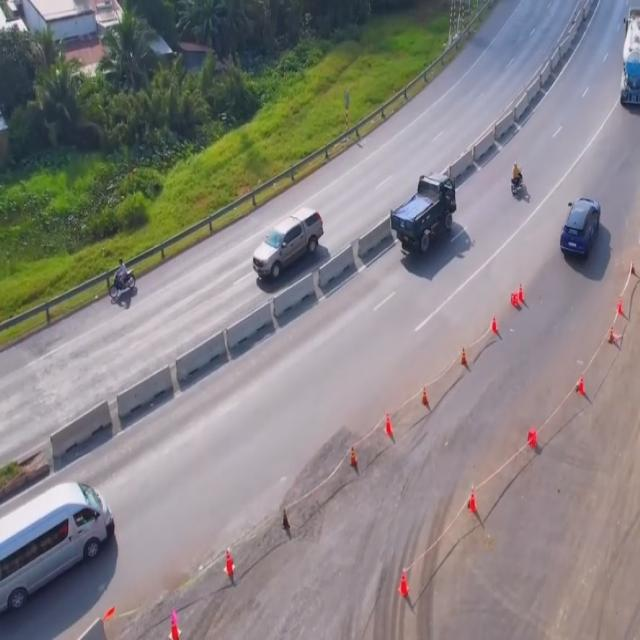car: (0, 483, 113, 614), (252, 211, 326, 289), (556, 196, 602, 262)
motorbike: (107, 258, 136, 300), (508, 162, 524, 195)
truck: (392, 167, 456, 261), (623, 2, 640, 114)
